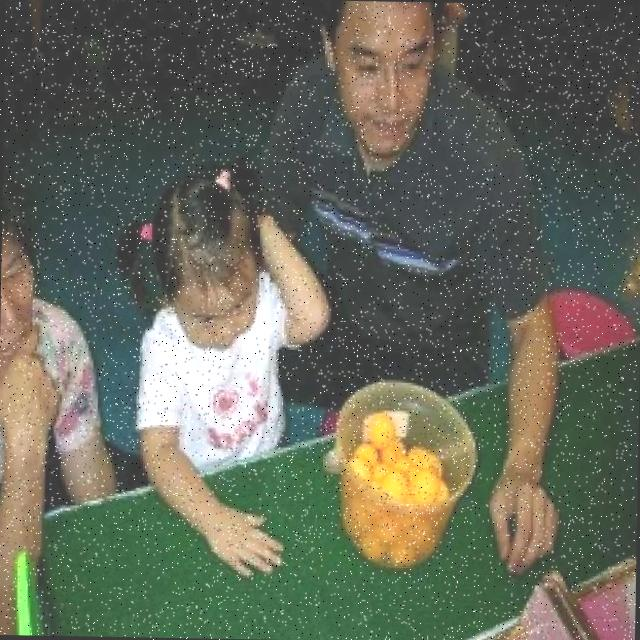ping-pong-ball: (376, 466, 411, 502), (409, 468, 440, 507), (367, 416, 394, 451), (407, 520, 435, 546), (372, 520, 398, 546), (350, 457, 376, 481)
